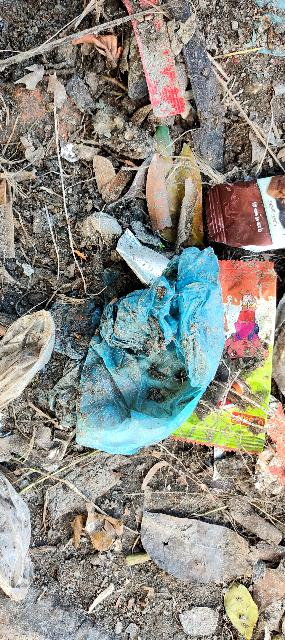polythene: (75, 244, 219, 455)
